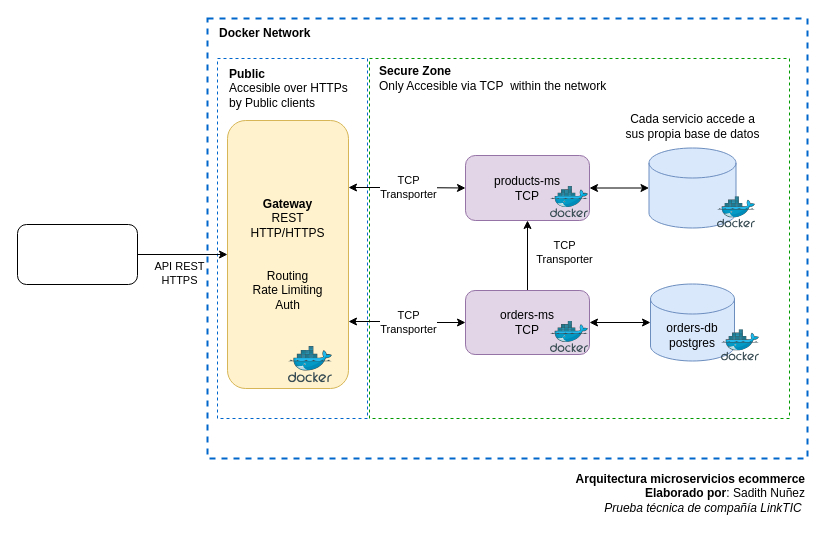
Some shapes in this 826 by 535 pixel diagram are drawn without their labels. The shapes that lost their labels are listed below. From the top down, each one's centre as x and y in pixels, then its label:
At (x=692, y=187): "products-db postgres".
At (x=77, y=254): "CLIENTS (Frontend/Services)".
